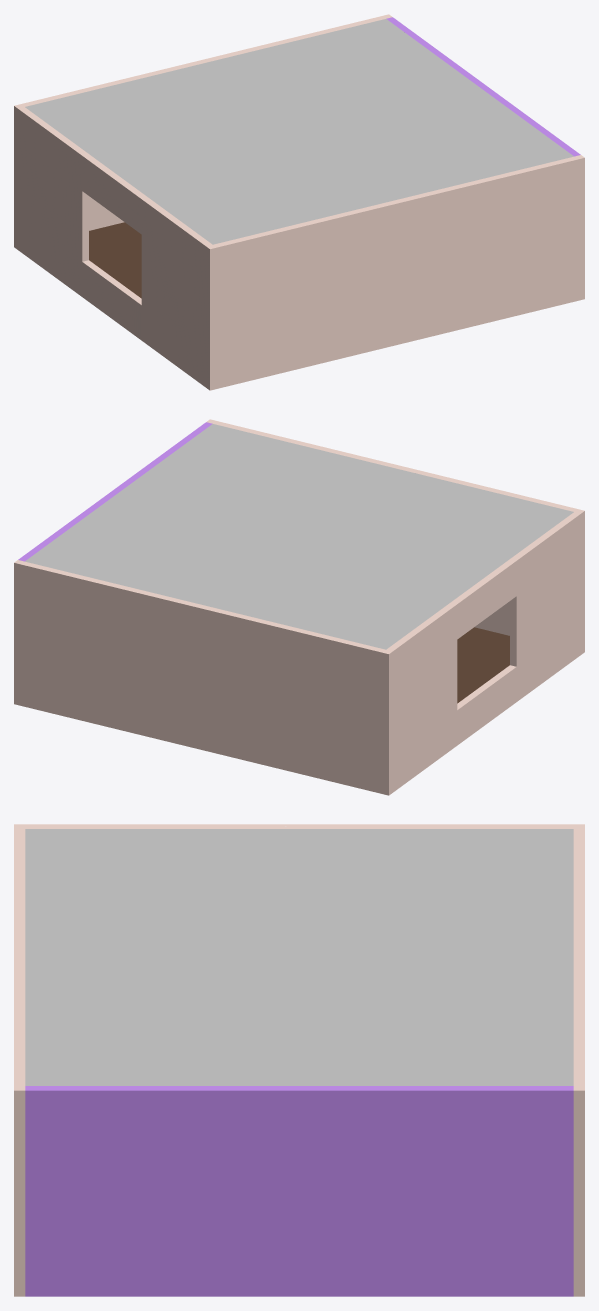
Rendered from House2.fbx.
3 views of the same model, one above another, from view 1: azimuth 30°, elevation 25°; view 2: azimuth 150°, elevation 25°; view 3: azimuth 270°, elevation 25° (orthographic). The views are drawn at different scales.
Parts seen in each view (by area): view 1: Walls, Roof, Floor; view 2: Walls, Roof, Floor; view 3: Roof, Walls.
Part boxes in pixels (<box>): Walls: <box>14,14,584,390</box>; Roof: <box>25,19,573,244</box>; Floor: <box>89,222,141,298</box>; Walls: <box>14,419,584,795</box>; Roof: <box>25,424,573,649</box>; Floor: <box>457,627,509,703</box>; Roof: <box>25,829,573,1085</box>; Walls: <box>14,824,584,1296</box>.
Size of the model in its own units: 2220 by 800 by 2010.
